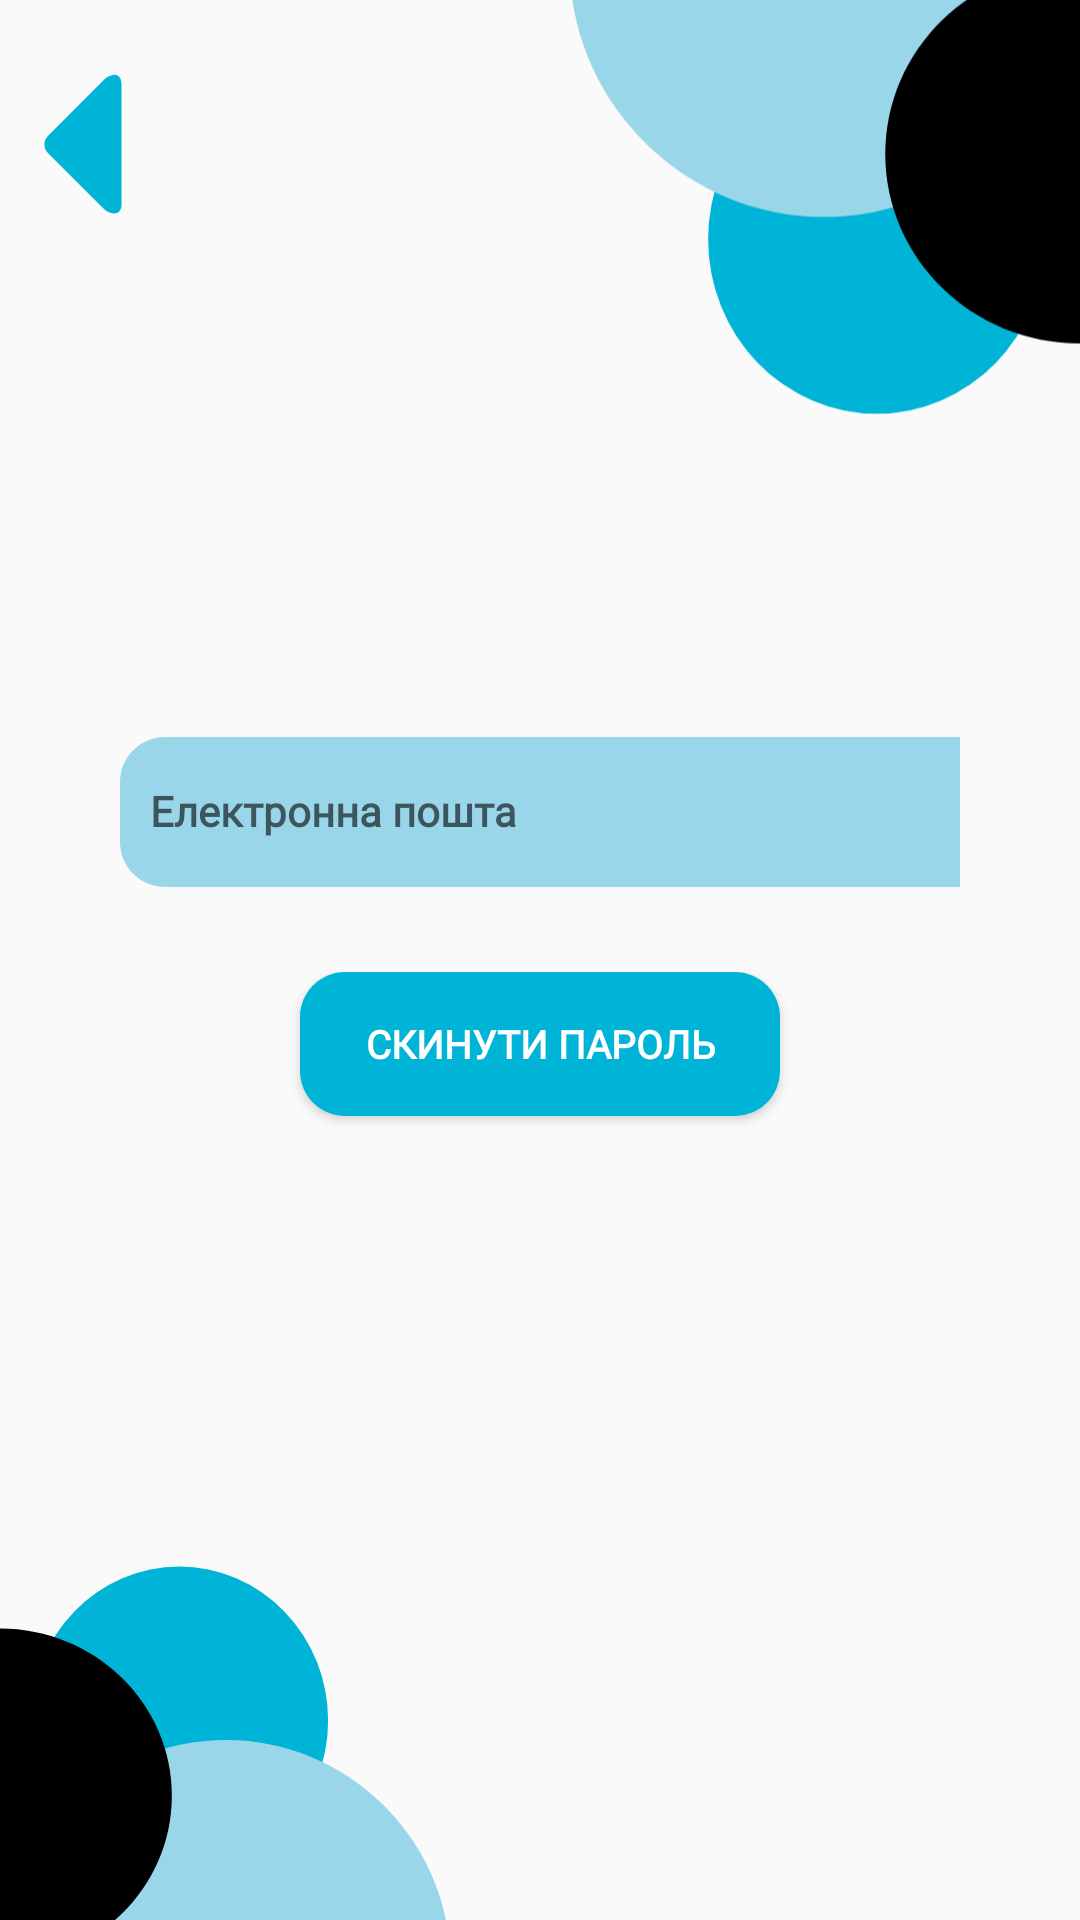

Icons on this 1080×1920 Android screen, each with the point to tap as point (x, y):
back: point (83, 144)
